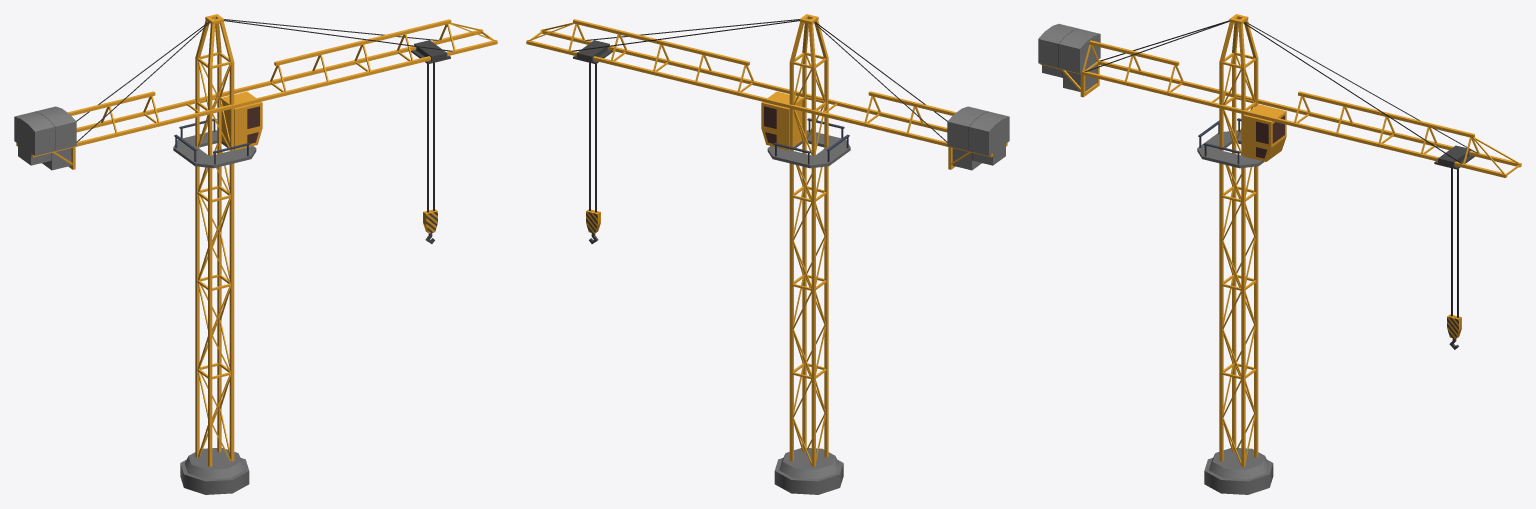
Rendered from TRF0610001.fbx.
3 views of the same model, side by side, from view 1: azimuth 30°, elevation 25°; view 2: azimuth 150°, elevation 25°; view 3: azimuth 330°, elevation 25° (orthographic).
Parts seen in each view (by area): view 1: smTRF0610001; view 2: smTRF0610001; view 3: smTRF0610001.
Part boxes in pixels (left/top/right/bottom): smTRF0610001: left=14, top=14, right=497, bottom=494; smTRF0610001: left=526, top=14, right=1009, bottom=494; smTRF0610001: left=1038, top=14, right=1521, bottom=494.
Bounding box in the file's own units: 4059 × 3856 × 539.
Materials: 1 (1 with a texture image).
